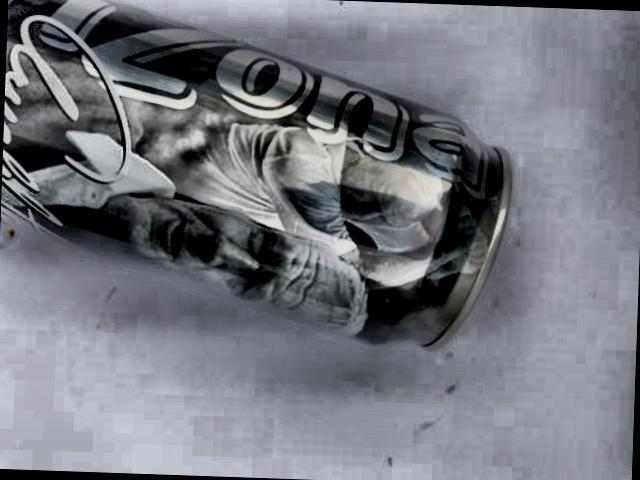Bottles: (0, 0, 531, 378)
